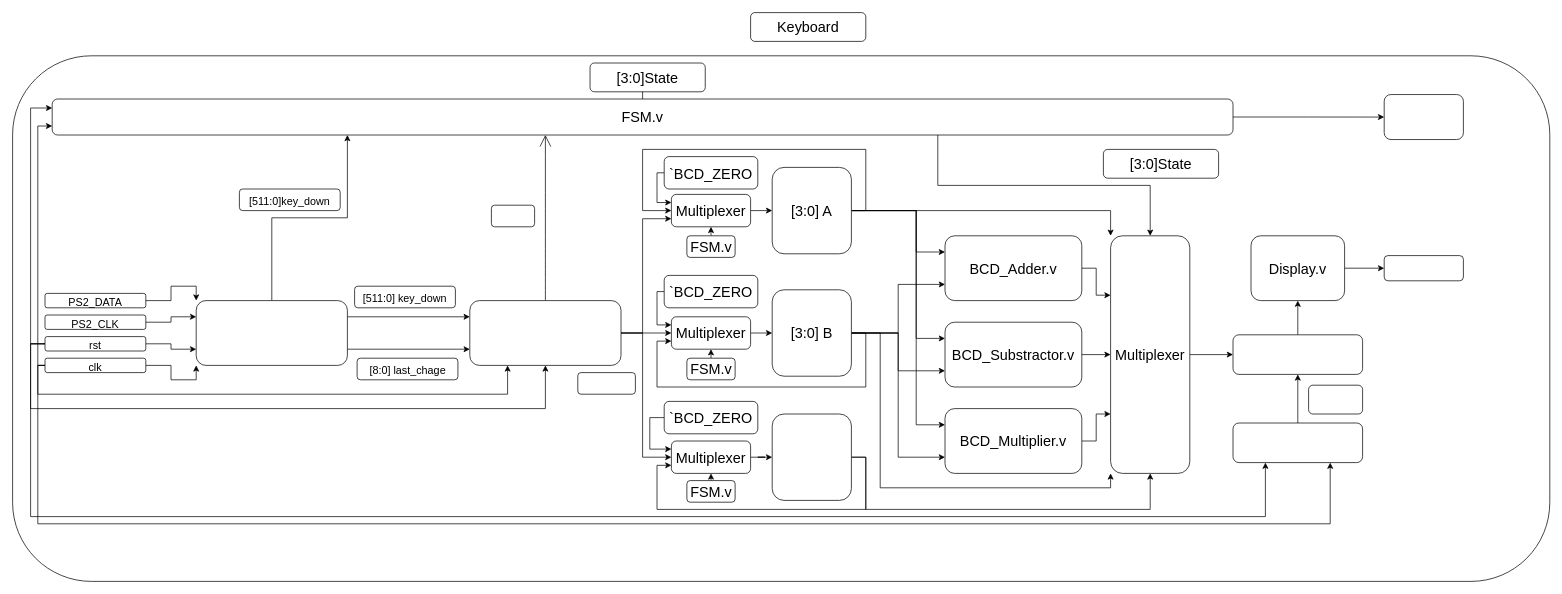
Some shapes in this 1562 by 594 pixel diagram are drawn without their labels. Here are the shapes that lost their labels. From the top down, the centre of each, then its label:
At point (1423, 117): "[2:0] state_led".
At point (513, 215): "ready".
At point (1423, 268): "[7:0] segs".
At point (271, 332): "Keyboard_Decorder.v".
At point (545, 332): "Keyboard_Eecorder.v".
At point (1297, 354): "scan_ctl".
At point (606, 383): "[3:0] out".
At point (1335, 399): "clk_2k".
At point (811, 456): "[15:0] transfer".
At point (1297, 442): "clock_generator".
